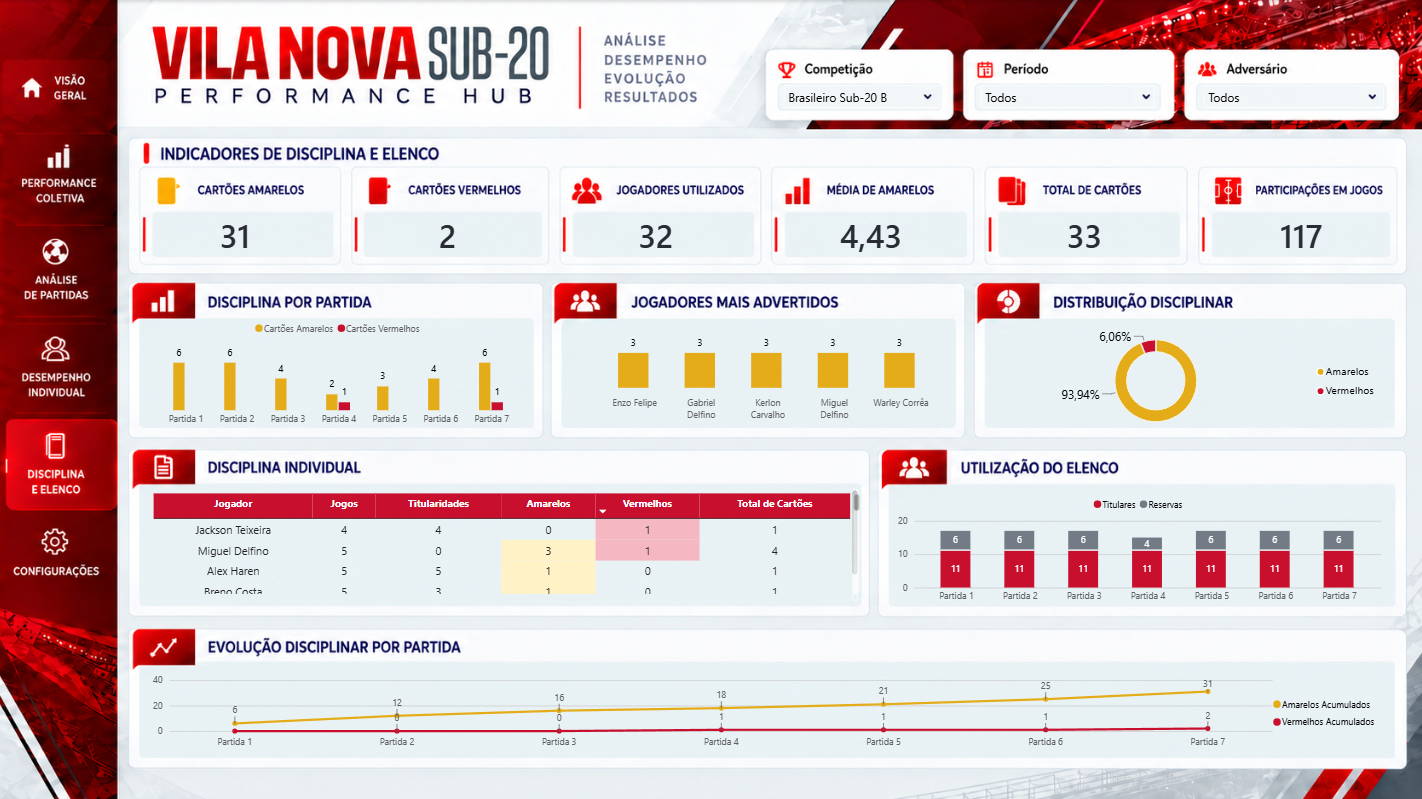

What the dashboard file says about the page in this screenshot:
{"tool":"powerbi","page":{"name":"05 - Disciplina e Elenco","canvas":[1920,1080],"ordinal":4},"visuals":[{"type":"cardVisual","fields":{"Data":["Medidas.Cartões Amarelos"]},"box":[192.6,277.4,253.2,79.5],"z":0},{"type":"cardVisual","fields":{"Data":["Medidas.Cartões Vermelhos"]},"box":[484.8,285.5,241,60.6],"z":1000},{"type":"cardVisual","fields":{"Data":["Medidas.Jogadores Utilizados"]},"box":[766.2,285.5,239.7,60.6],"z":2000},{"type":"cardVisual","fields":{"Data":["Medidas.Média de Amarelos"]},"box":[1053.1,285.5,245.1,60.6],"z":3000},{"type":"cardVisual","fields":{"Data":["Medidas.Total de Cartões"]},"box":[1339.9,285.5,246.4,60.6],"z":4000},{"type":"cardVisual","fields":{"Data":["Medidas.Participações em Jogos"]},"box":[1632.1,285.5,246.4,60.6],"z":5000},{"type":"slicer","fields":{"Values":["fato_partidas.competicao"]},"box":[1053.1,109.1,220.8,36.4],"z":6000},{"type":"slicer","fields":{"Values":["dim_calendario.Data"]},"box":[1318.4,109.1,243.7,45.8],"z":7000},{"type":"slicer","fields":{"Values":["dim_partidas.Adversário"]},"box":[1618.7,109.1,253.2,36.4],"z":8000},{"type":"clusteredColumnChart","fields":{"Category":["dim_partidas.Nome da Partida"],"Y":["Medidas.Cartões Amarelos","Medidas.Cartões Vermelhos - Gráfico"]},"box":[193,413,533,180],"z":9000},{"type":"columnChart","fields":{"Category":["dim_jogadores.Nome Curto"],"Y":["Medidas.Cartões Amarelos"]},"box":[758,428,532,156],"z":10000},{"type":"donutChart","fields":{"Category":["Tipos de Cartão.Tipo"],"Y":["Medidas.Cartões por Tipo"]},"box":[1327.8,428.2,550.8,171],"z":11000},{"type":"tableEx","fields":{"Values":["dim_jogadores.Nome Curto","Medidas.Jogos Disputados por Jogador","Medidas.Jogos como Titular","Medidas.Cartões Amarelos","Medidas.Cartões Vermelhos","Medidas.Total de Cartões"]},"box":[192.5,651.1,983.6,164.5],"z":12000},{"type":"columnChart","fields":{"Category":["dim_partidas.Nome da Partida"],"Y":["Medidas.Titulares por Partida","Medidas.Reservas que Entraram"]},"box":[1195.8,650.4,682.7,181.8],"z":13000},{"type":"lineChart","fields":{"Category":["dim_partidas.Nome da Partida"],"Y":["Medidas.Amarelos Acumulados","Medidas.Vermelhos Acumulados"]},"box":[192.6,892.8,1686,136],"z":14000},{"type":"actionButton","box":[37.7,88.9,107.7,56.6],"z":15000},{"type":"actionButton","box":[18.9,187.2,117.2,90.2],"z":16000},{"type":"actionButton","box":[24.2,317.8,107.7,56.6],"z":17000},{"type":"actionButton","box":[28.3,444.4,103.7,70],"z":18000}]}

Visuals, with their boxes on the page's 1920x1080 design canvas (x1, y1, x2, y2). These are canvas units, not pixel positions in the 1422x799 screenshot, which may show the page scaled, cropped or inside an application window:
cardVisual - Medidas.Cartões Amarelos: (193, 277, 446, 357)
cardVisual - Medidas.Cartões Vermelhos: (485, 286, 726, 346)
cardVisual - Medidas.Jogadores Utilizados: (766, 286, 1006, 346)
cardVisual - Medidas.Média de Amarelos: (1053, 286, 1298, 346)
cardVisual - Medidas.Total de Cartões: (1340, 286, 1586, 346)
cardVisual - Medidas.Participações em Jogos: (1632, 286, 1878, 346)
slicer - fato_partidas.competicao: (1053, 109, 1274, 146)
slicer - dim_calendario.Data: (1318, 109, 1562, 155)
slicer - dim_partidas.Adversário: (1619, 109, 1872, 146)
clusteredColumnChart - dim_partidas.Nome da Partida x Medidas.Cartões Amarelos: (193, 413, 726, 593)
columnChart - dim_jogadores.Nome Curto x Medidas.Cartões Amarelos: (758, 428, 1290, 584)
donutChart - Tipos de Cartão.Tipo x Medidas.Cartões por Tipo: (1328, 428, 1879, 599)
tableEx - dim_jogadores.Nome Curto x Medidas.Jogos Disputados por Jogador: (192, 651, 1176, 816)
columnChart - dim_partidas.Nome da Partida x Medidas.Titulares por Partida: (1196, 650, 1878, 832)
lineChart - dim_partidas.Nome da Partida x Medidas.Amarelos Acumulados: (193, 893, 1879, 1029)
actionButton: (38, 89, 145, 146)
actionButton: (19, 187, 136, 277)
actionButton: (24, 318, 132, 374)
actionButton: (28, 444, 132, 514)
